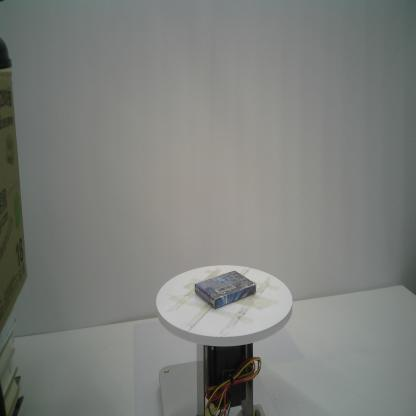Gum: (194, 270, 258, 310)
